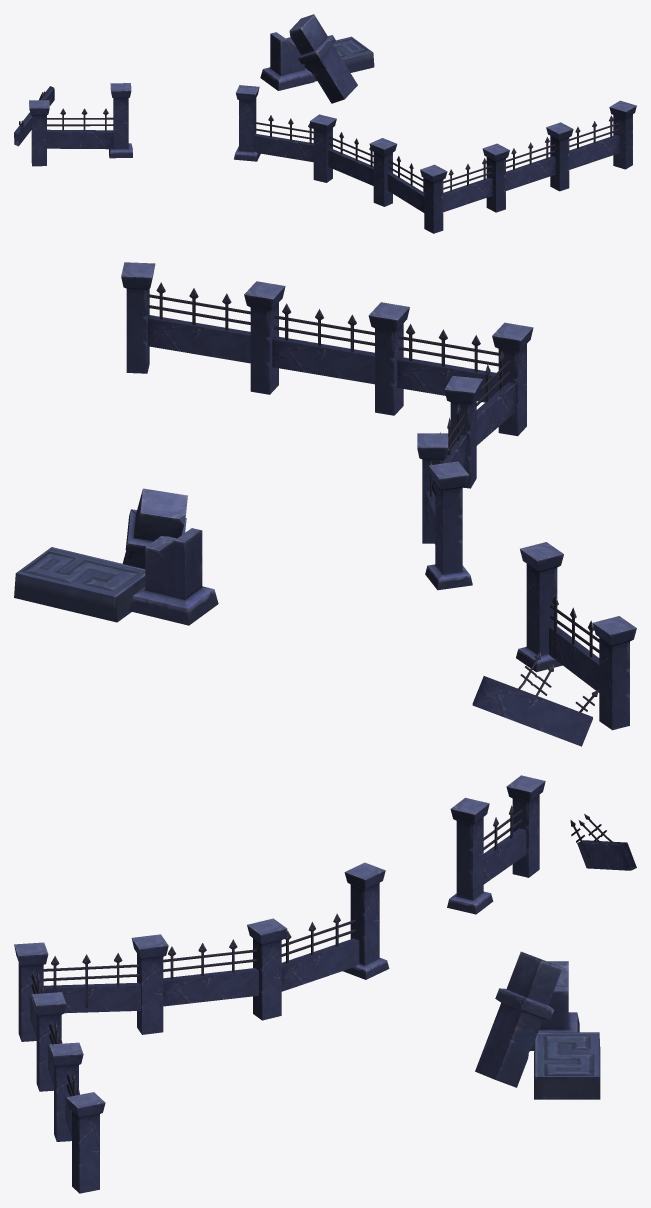
The model's file is Area13_16.fbx.
The picture shows the model from 3 angles, top to bottom: view 1: azimuth 30°, elevation 25°; view 2: azimuth 150°, elevation 25°; view 3: azimuth 270°, elevation 25°; orthographic projection. The views are drawn at different scales.
Parts seen in each view (by area): view 1: Area13_16; view 2: Area13_16; view 3: Area13_16.
Boxes of the visible parts, box(x1,y1,x2,y2) form: Area13_16: box(14, 14, 636, 233); Area13_16: box(14, 262, 636, 746); Area13_16: box(14, 775, 636, 1193).
Size of the model in its own units: 5011 by 828 by 3964.
